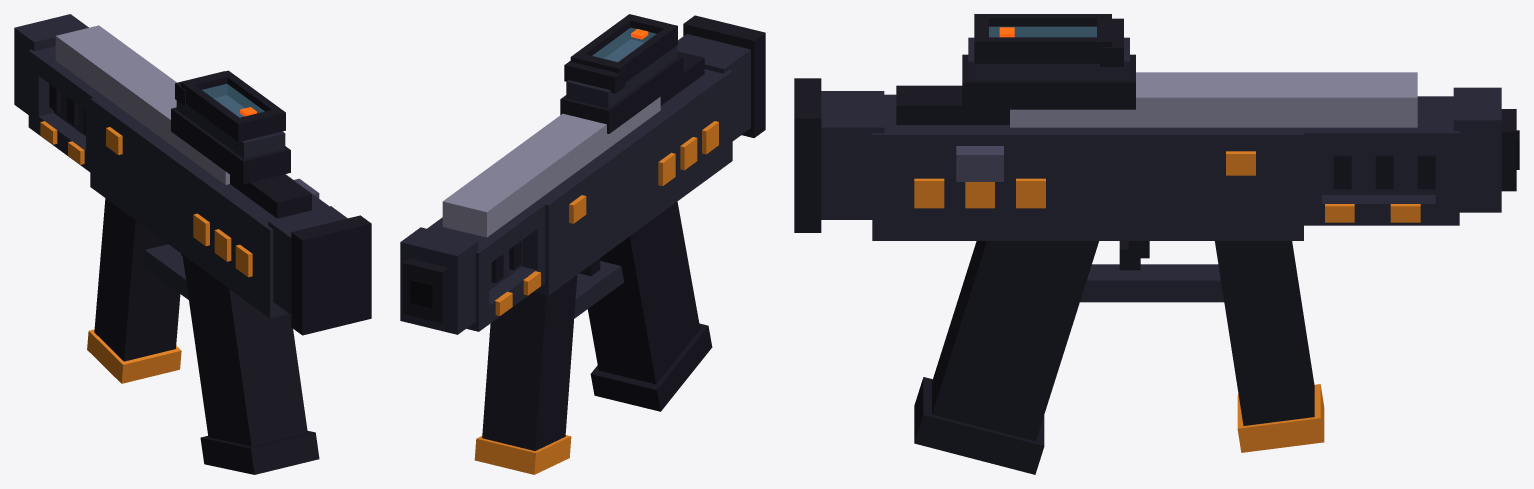
Rendered from rifle_security.lod1.glb.
The picture shows the model from 3 angles, left to right: view 1: azimuth 30°, elevation 25°; view 2: azimuth 150°, elevation 25°; view 3: azimuth 270°, elevation 25°; orthographic projection. The views are drawn at different scales.
Visible parts, largest first — view 1: item.rifle_security.body, part.mag, part.sight; view 2: item.rifle_security.body, part.mag, part.sight; view 3: item.rifle_security.body, part.mag, part.sight, part.bolt.
Boxes of the visible parts, x1=… form: item.rifle_security.body: x1=14, y1=14, x2=371, y2=474; part.mag: x1=87, y1=198, x2=181, y2=383; part.sight: x1=181, y1=70, x2=285, y2=141; item.rifle_security.body: x1=400, y1=15, x2=765, y2=411; part.mag: x1=474, y1=275, x2=577, y2=474; part.sight: x1=570, y1=14, x2=677, y2=82; item.rifle_security.body: x1=794, y1=18, x2=1519, y2=474; part.mag: x1=1215, y1=241, x2=1324, y2=452; part.sight: x1=974, y1=14, x2=1111, y2=63; part.bolt: x1=956, y1=146, x2=1003, y2=181.
Size of the model in its own units: 0.1281 by 0.4925 by 0.7562.
